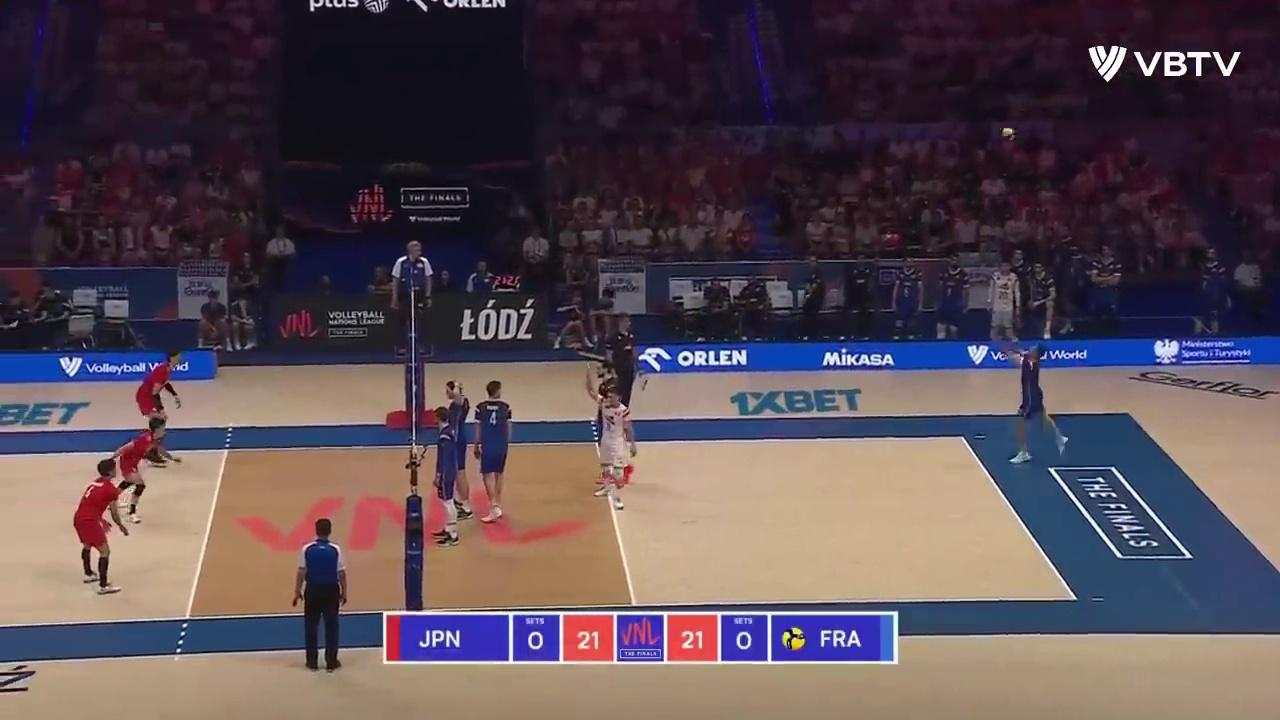ball: (1003, 126, 1016, 142)
